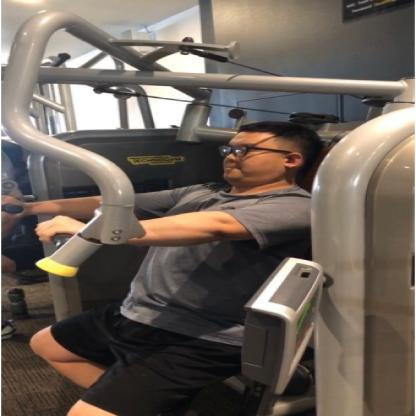Chest Press machine: (4, 10, 415, 416)
